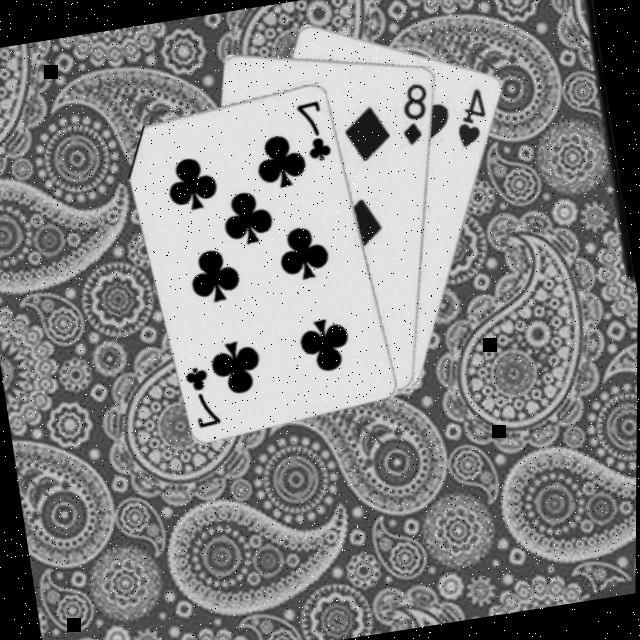4H: (448, 82, 493, 149)
7C: (180, 360, 224, 431), (292, 94, 334, 164)
8D: (392, 76, 436, 147)
